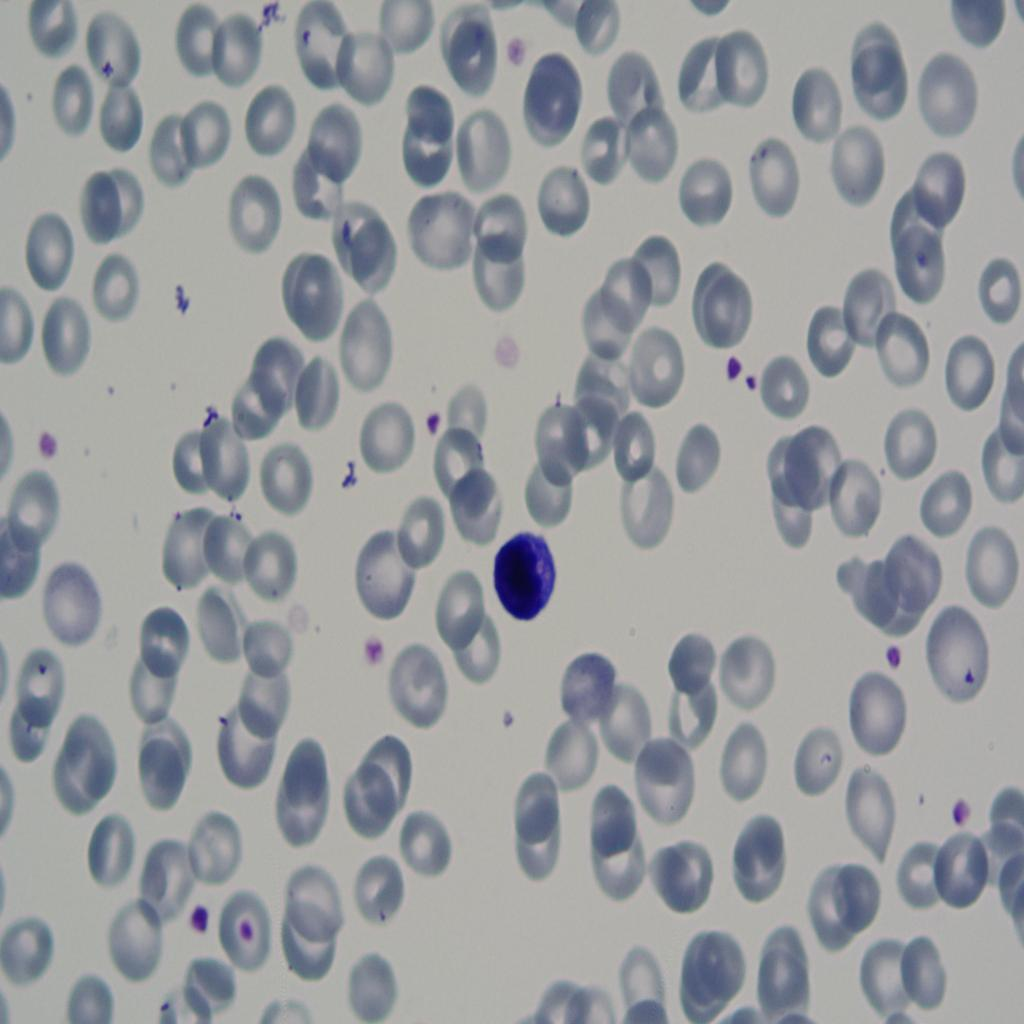Myeoblast: (496, 509, 570, 619)
Platelet: (158, 262, 198, 325), (492, 698, 532, 749), (27, 426, 73, 461), (334, 456, 374, 496), (186, 897, 214, 946), (359, 636, 390, 680), (240, 914, 262, 956), (426, 398, 450, 434), (718, 347, 740, 385), (966, 655, 985, 695), (950, 804, 970, 834), (884, 636, 898, 666), (744, 368, 758, 391)
